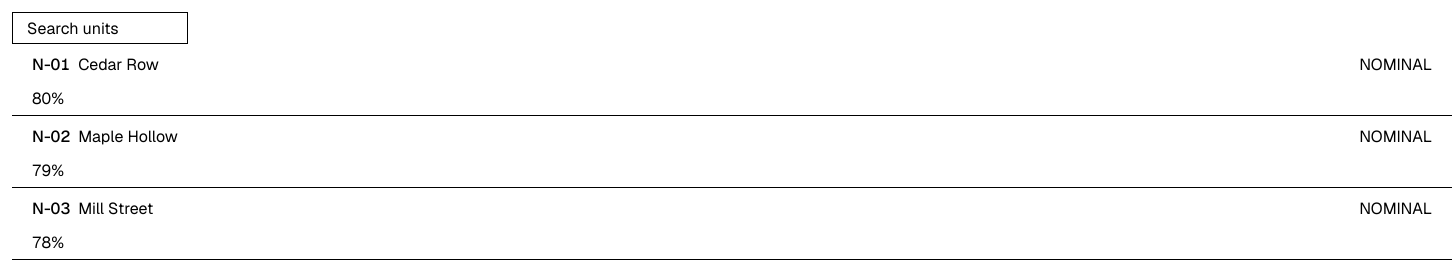
FleetRail › Escape clears the filter and keeps focus in the field
Type "maple" into the search field at {"x": 100, "y": 28}, box [12,12,188,44]
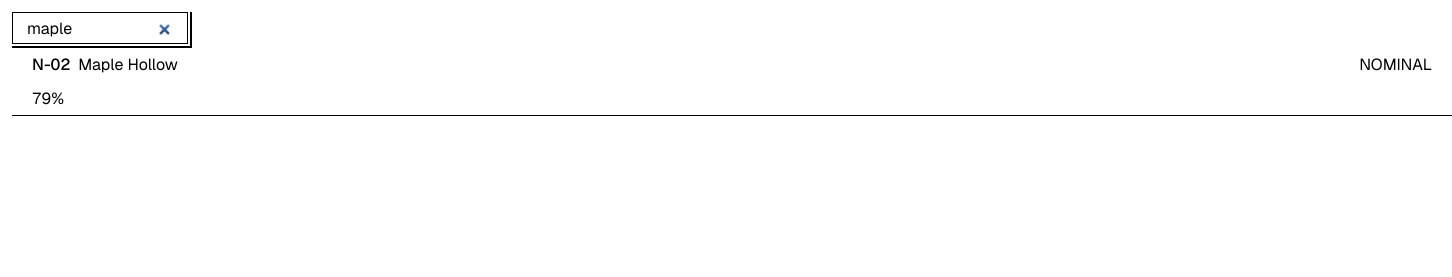
Expected: the number of links is 1, [12,44,1451,116]
Press Escape
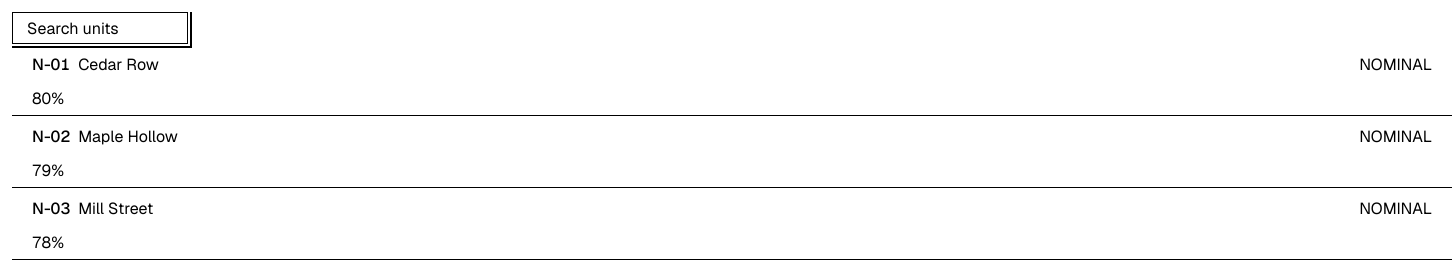
Expected: the search field is empty, [12,12,188,44]
Expected: the number of links is 3, [12,44,1451,116]; [12,116,1451,188]; [12,188,1451,260]
